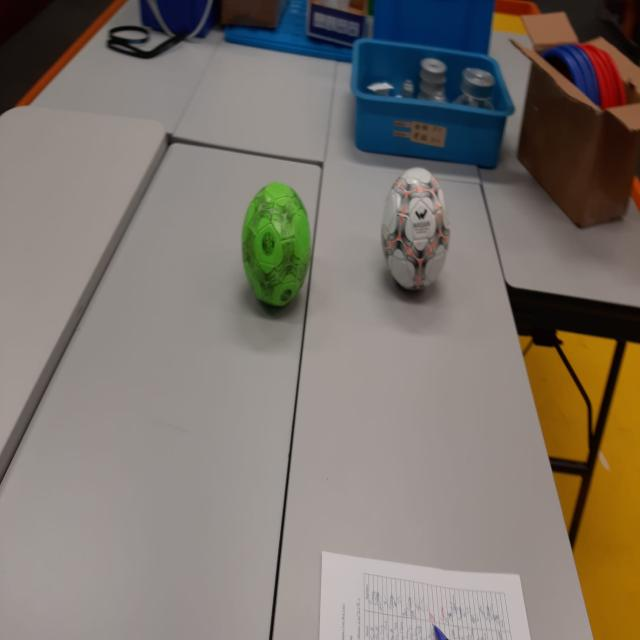ball: (240, 182, 314, 312), (379, 168, 452, 296)
